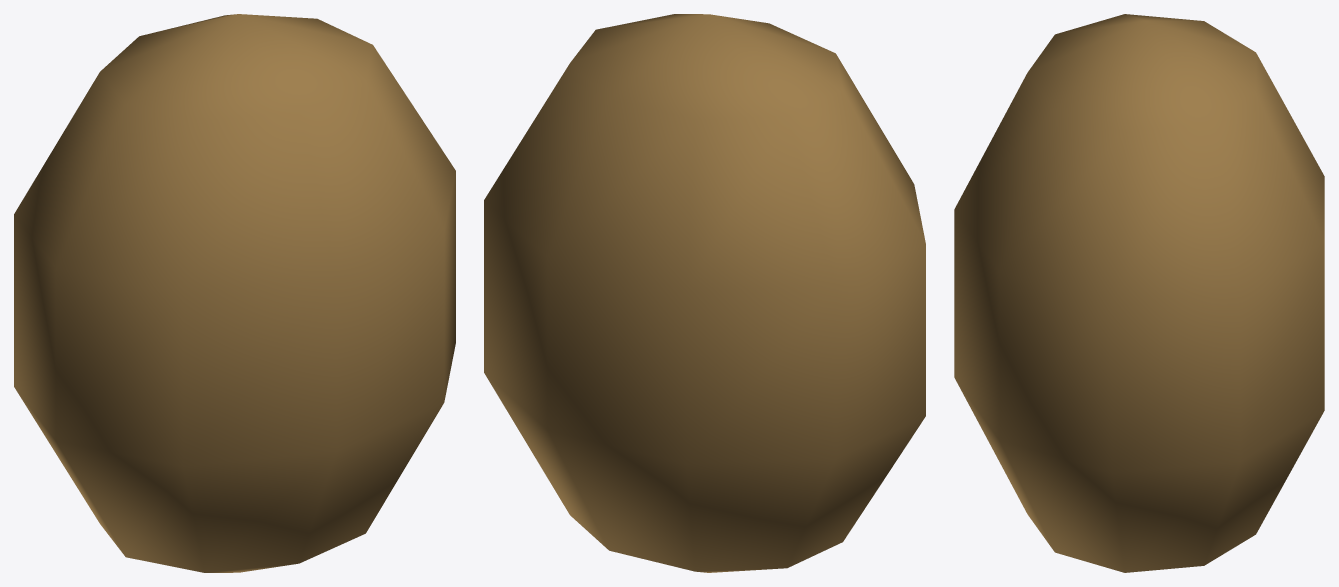
The model's file is Tool_SeedBag.glb.
The picture shows the model from 3 angles, left to right: view 1: azimuth 30°, elevation 25°; view 2: azimuth 150°, elevation 25°; view 3: azimuth 270°, elevation 25°; orthographic projection. The views are drawn at different scales.
Parts seen in each view (by area): view 1: _MeshInstance3D_4578; view 2: _MeshInstance3D_4578; view 3: _MeshInstance3D_4578.
Part boxes in pixels (bbox=[...]): _MeshInstance3D_4578: bbox=[14, 14, 455, 572]; _MeshInstance3D_4578: bbox=[484, 14, 925, 572]; _MeshInstance3D_4578: bbox=[954, 14, 1324, 572].
Size of the model in its own units: 0.2248 by 0.3 by 0.1845.
